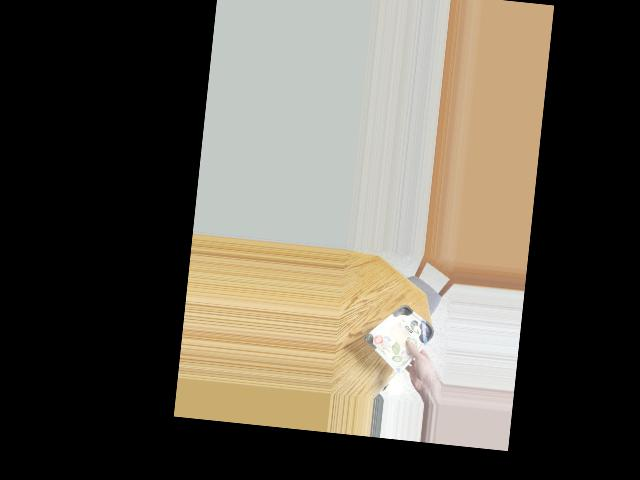cheese: (370, 301, 431, 364)
